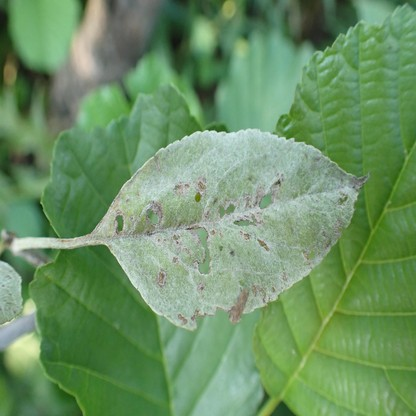powder: (96, 128, 371, 333)
